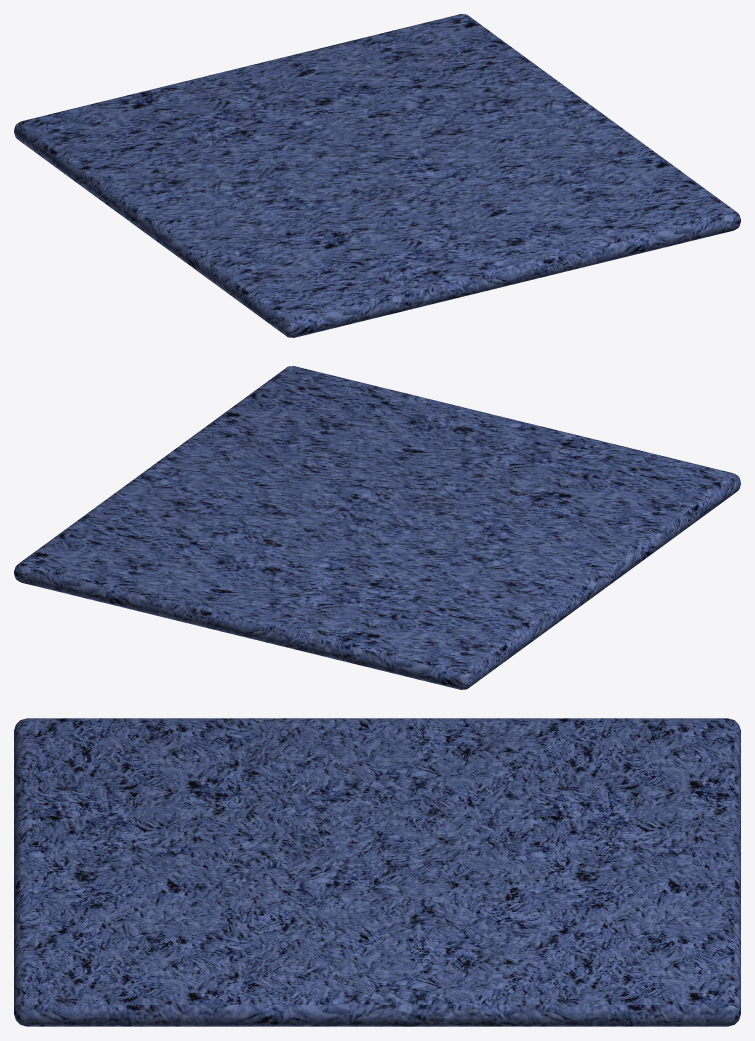
Rendered from recm6KcqrS0O7jhOx.glb.
3 views of the same model, one above another, from view 1: azimuth 30°, elevation 25°; view 2: azimuth 150°, elevation 25°; view 3: azimuth 270°, elevation 25° (orthographic). The views are drawn at different scales.
Parts seen in each view (by area): view 1: tapis_bain_vasque_Corps; view 2: tapis_bain_vasque_Corps; view 3: tapis_bain_vasque_Corps.
Part boxes in pixels (<box>): tapis_bain_vasque_Corps: <box>14,14,740,337</box>; tapis_bain_vasque_Corps: <box>14,366,740,689</box>; tapis_bain_vasque_Corps: <box>14,718,740,1026</box>.
Bounding box in the file's own units: 0.55 × 0.022 × 0.58.
Materials: 1 (1 with a texture image).
